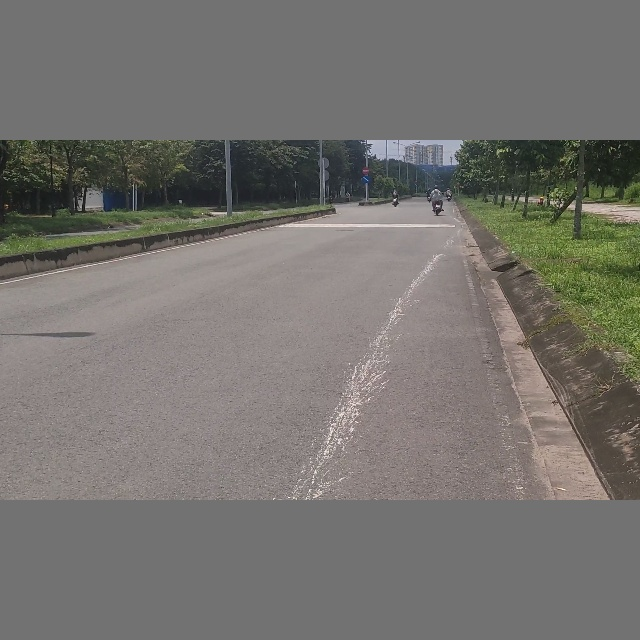P.102: (362, 167, 370, 174)
R.302a: (362, 175, 370, 183)
